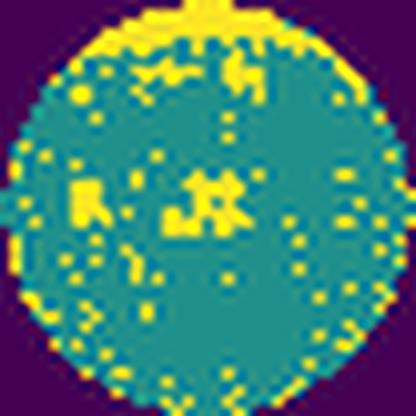Edge-Loc: (64, 0, 373, 103)
